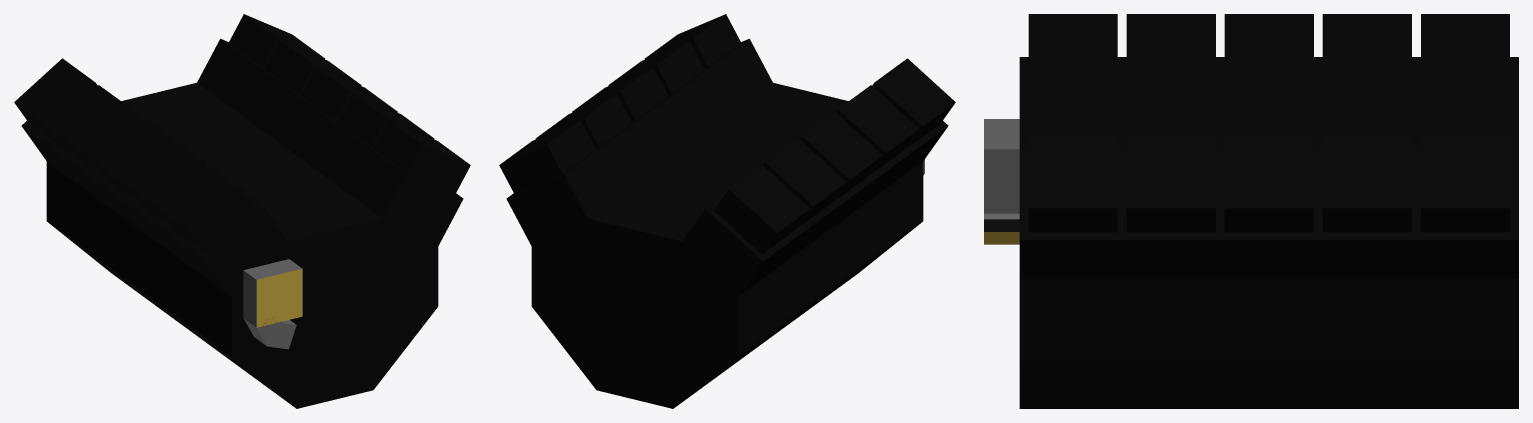
Rendered from v90torquelineturbo.obj.
3 renders of one model, left to right at view 1: azimuth 30°, elevation 25°; view 2: azimuth 150°, elevation 25°; view 3: azimuth 270°, elevation 25°, orthographic. The views are drawn at different scales.
Parts seen in each view (by area): view 1: cube, turbo; view 2: cube; view 3: cube, turbo.
Boxes of the visible parts, x1,y1,x2,y2 form: cube: (14, 14, 470, 408); turbo: (243, 259, 302, 349); cube: (499, 14, 955, 408); cube: (1019, 14, 1518, 408); turbo: (984, 119, 1019, 244).
Size of the model in its own units: 1.17 by 0.9219 by 1.44.
